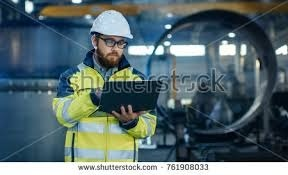helmet: (88, 7, 136, 41)
person with partial safety: (53, 8, 158, 162)
